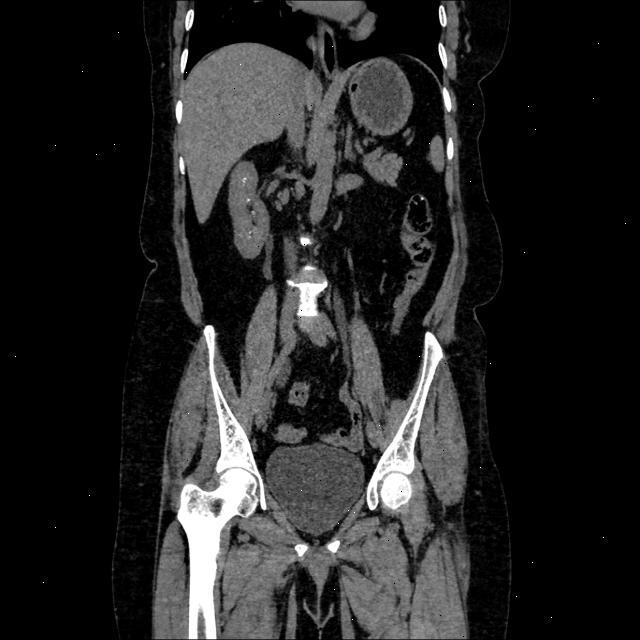kidneystone: (241, 174, 248, 182), (246, 196, 252, 202)
